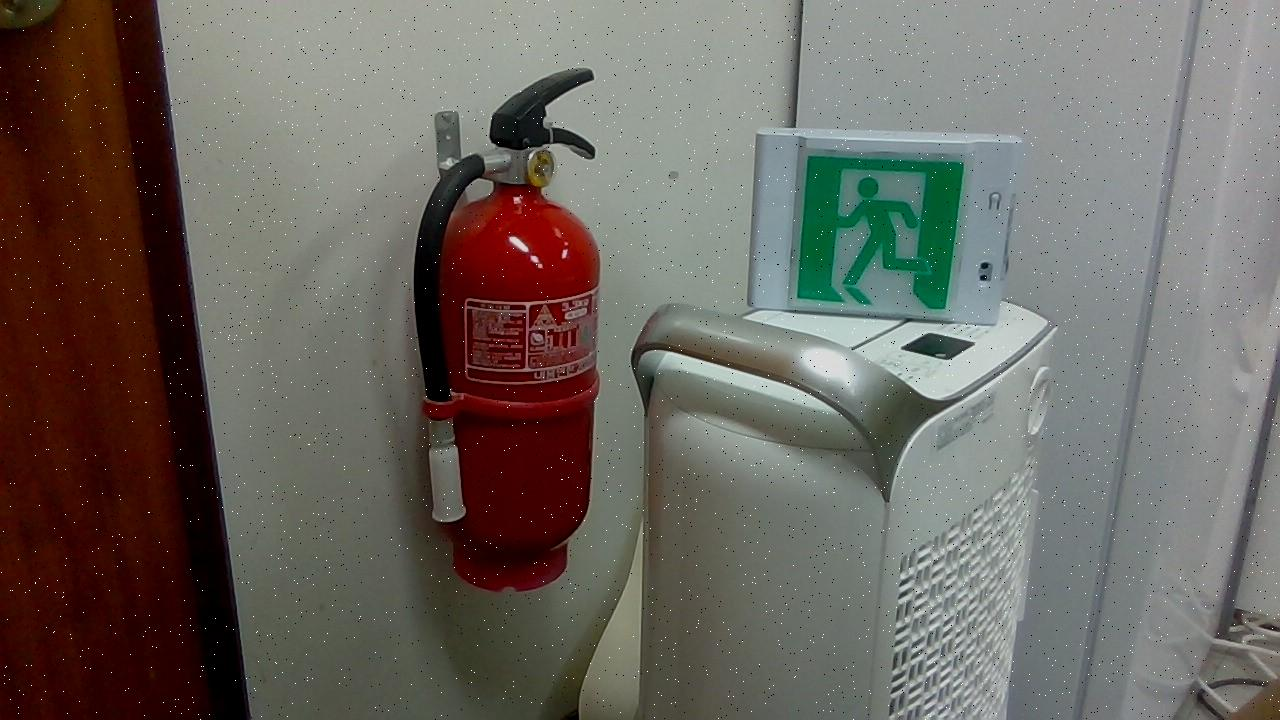emergency_exit: (411, 65, 604, 591), (746, 126, 1022, 327)
